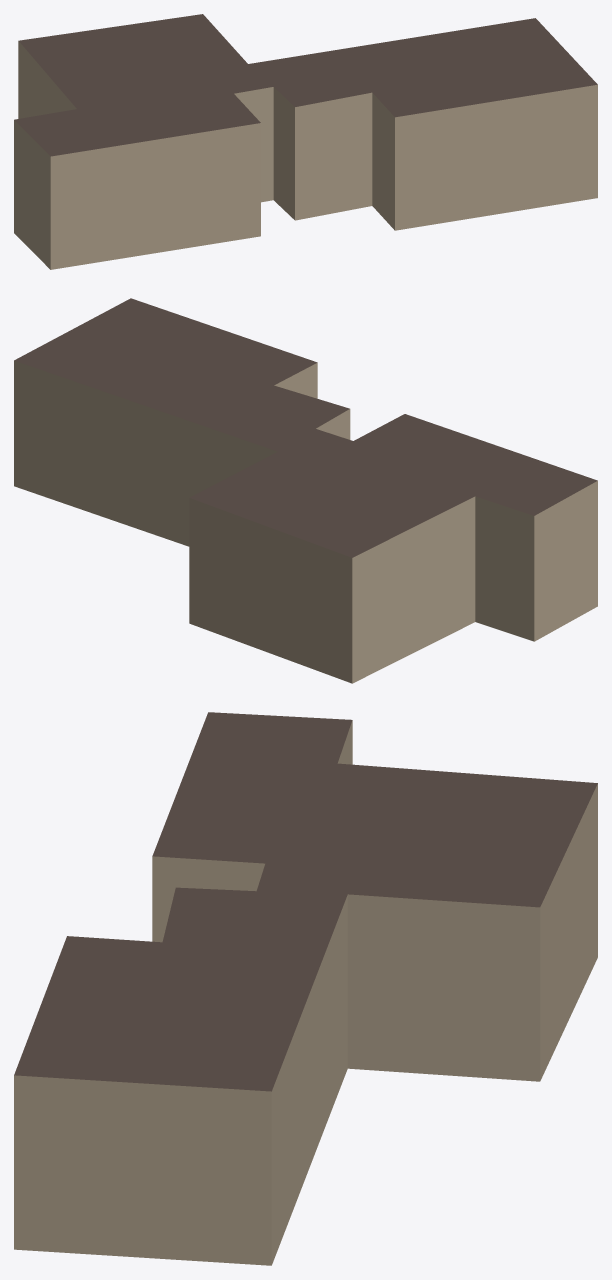
3 renders of one model, top to bottom at view 1: azimuth 30°, elevation 25°; view 2: azimuth 150°, elevation 25°; view 3: azimuth 270°, elevation 25°, orthographic. The views are drawn at different scales.
Parts seen in each view (by area): view 1: HP-w178731808; view 2: HP-w178731808; view 3: HP-w178731808.
Boxes of the visible parts, x1,y1,x2,y2 form: HP-w178731808: [14, 14, 597, 269]; HP-w178731808: [14, 298, 597, 683]; HP-w178731808: [14, 712, 597, 1265].
Bounding box in the file's own units: 42.01 × 9 × 27.33.
